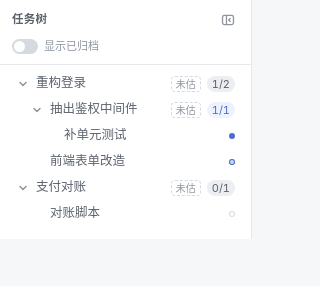
Test case: Sidebar › 拖动落库失败时在树顶显示后端文案，点一下就收起
Step 1. Press the mouse on the button "补单元测试" → point(144, 136), box [64,126,223,145]
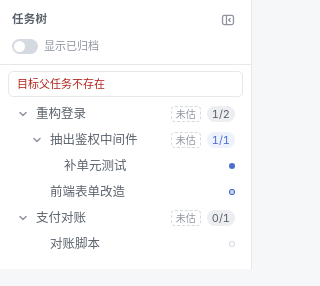
Expected: the button "目标父任务不存在" is shown
Step 2. Click the button "目标父任务不存在" → point(126, 84), box [8,70,243,97]
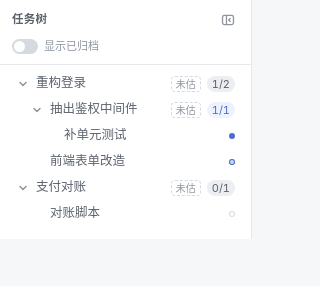
Expected: the button "目标父任务不存在" is gone
